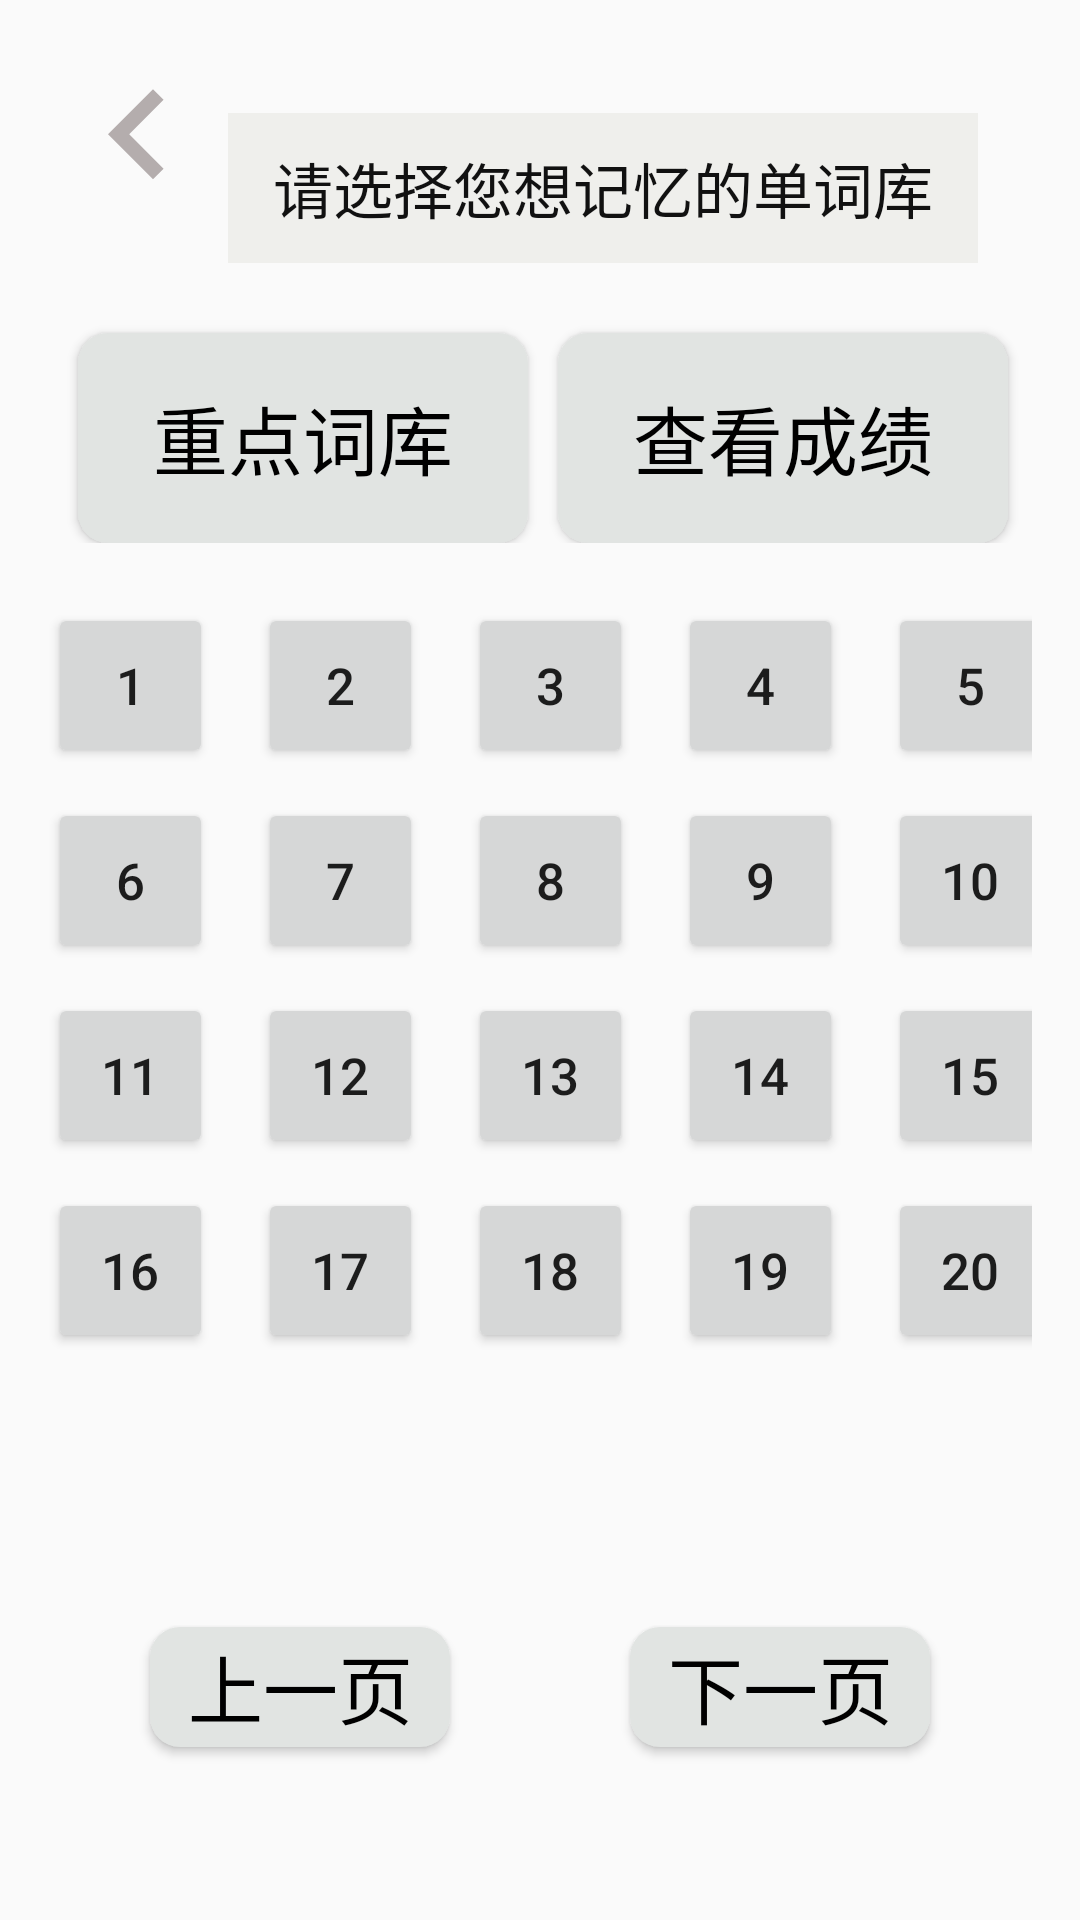

Icons on this 1080px×1920px Android screen, each with its box as Rect(x1, y1, x2, y2):
keyboard arrow left: Rect(108, 90, 163, 179)
